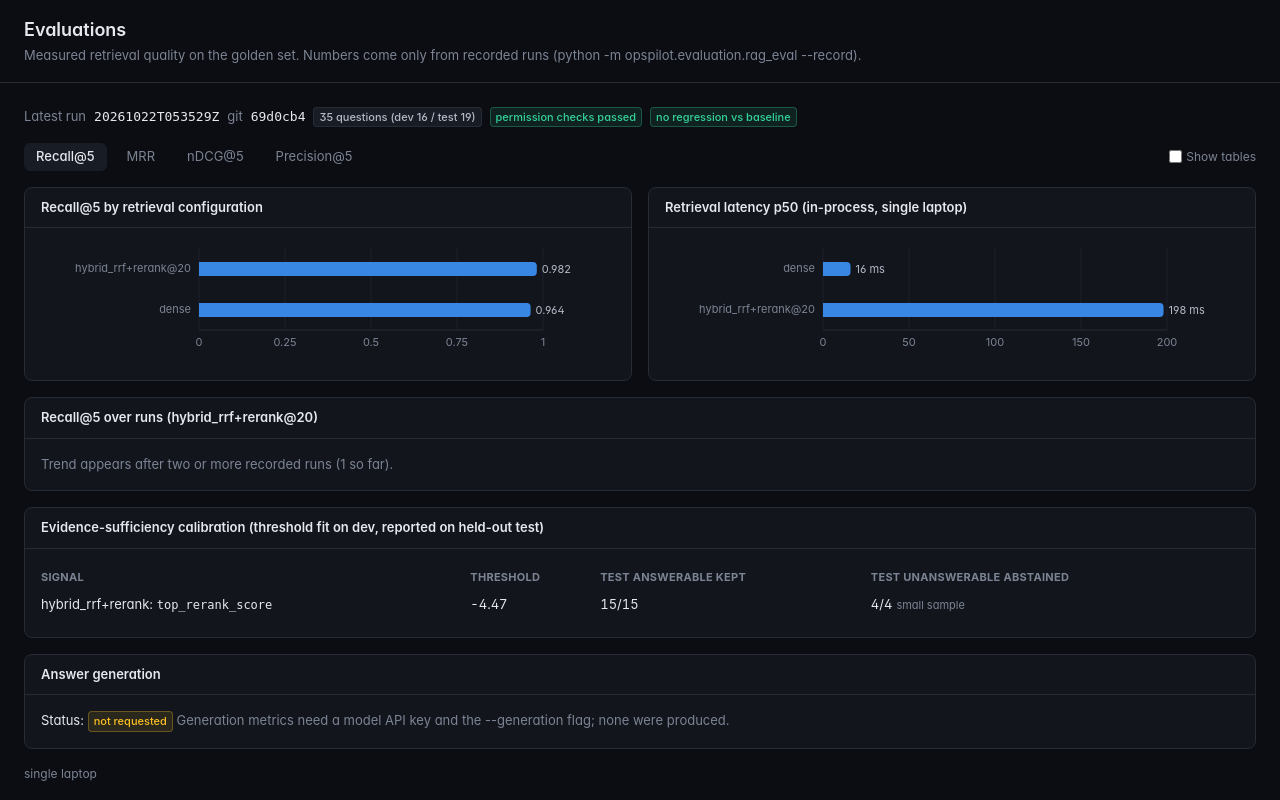
Test: shows recorded metrics, calibration counts with a sample-size caveat, and honest generation status
This screenshot has width=1280, height=800.
Expected: the text "no regression vs baseline" is shown, [650, 106, 797, 127]
Expected: the text "15/15" is shown, [600, 589, 871, 620]
Click the checkbox labelled "Show tables" at (1176, 157), box [1169, 150, 1182, 163]
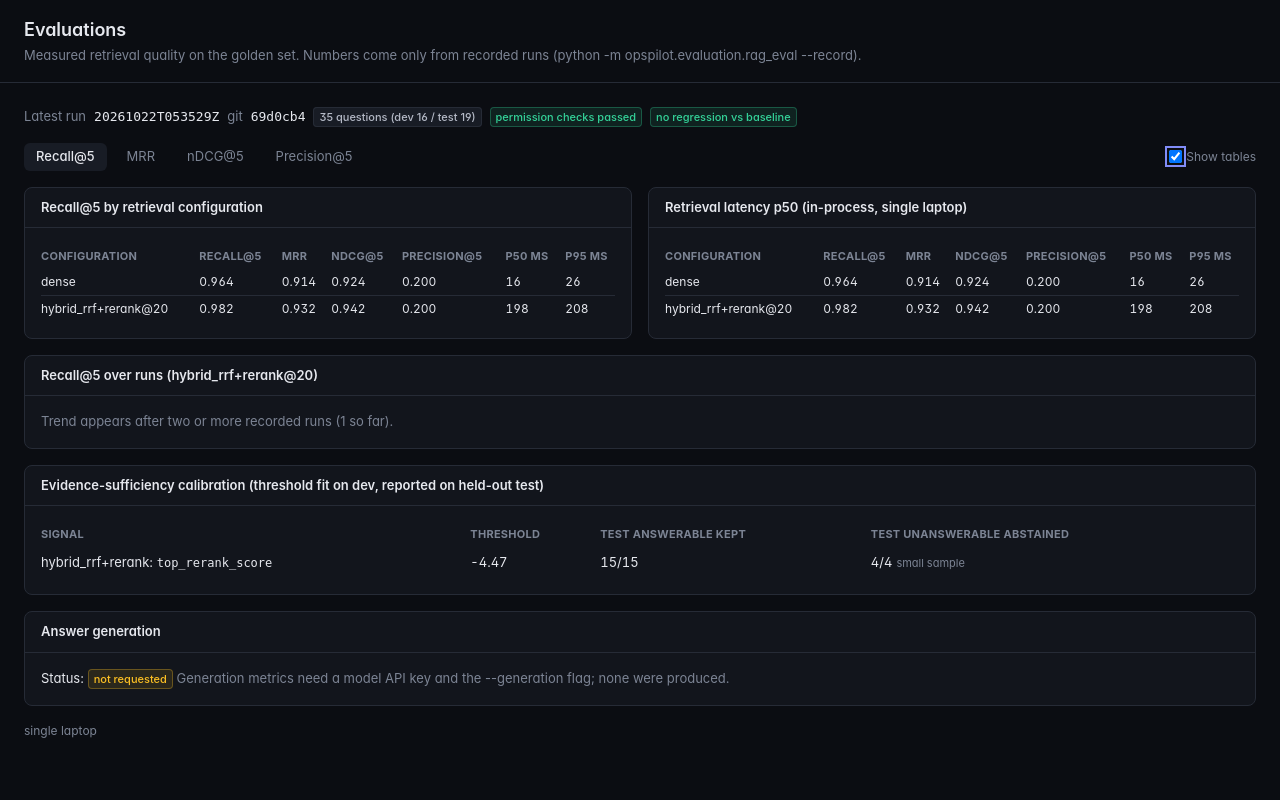
Now the cell "0.982" below "Recall@5 by retrieval configuration" is shown, box [199, 295, 282, 322]
